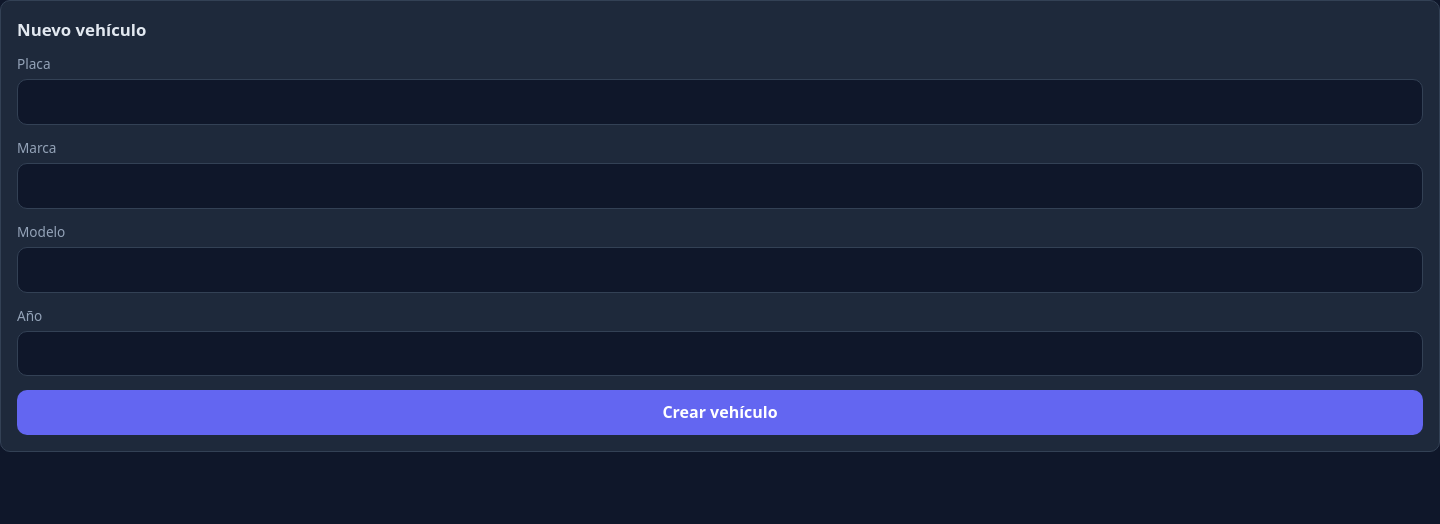
Test: VehicleForm › rechaza un año fuera de rango
The image size is (1440, 524).
In the field labelled "Placa": (720, 102) [17, 79, 1423, 125], type "ABC-123"
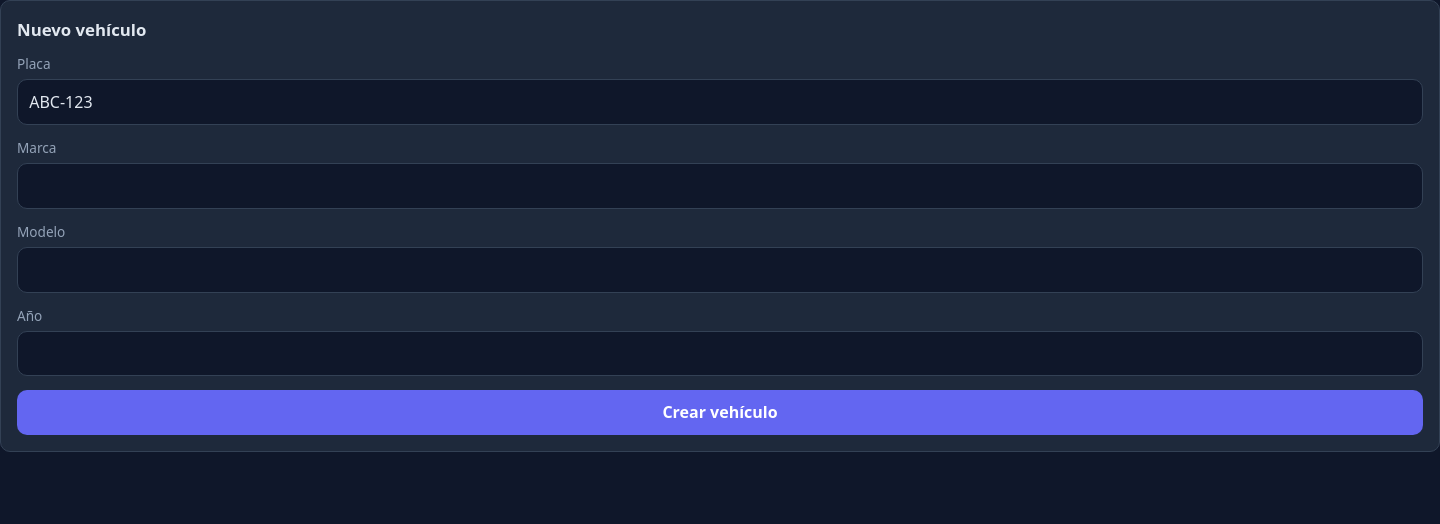
In the field labelled "Marca": (720, 186) [17, 163, 1423, 208], type "Toyota"
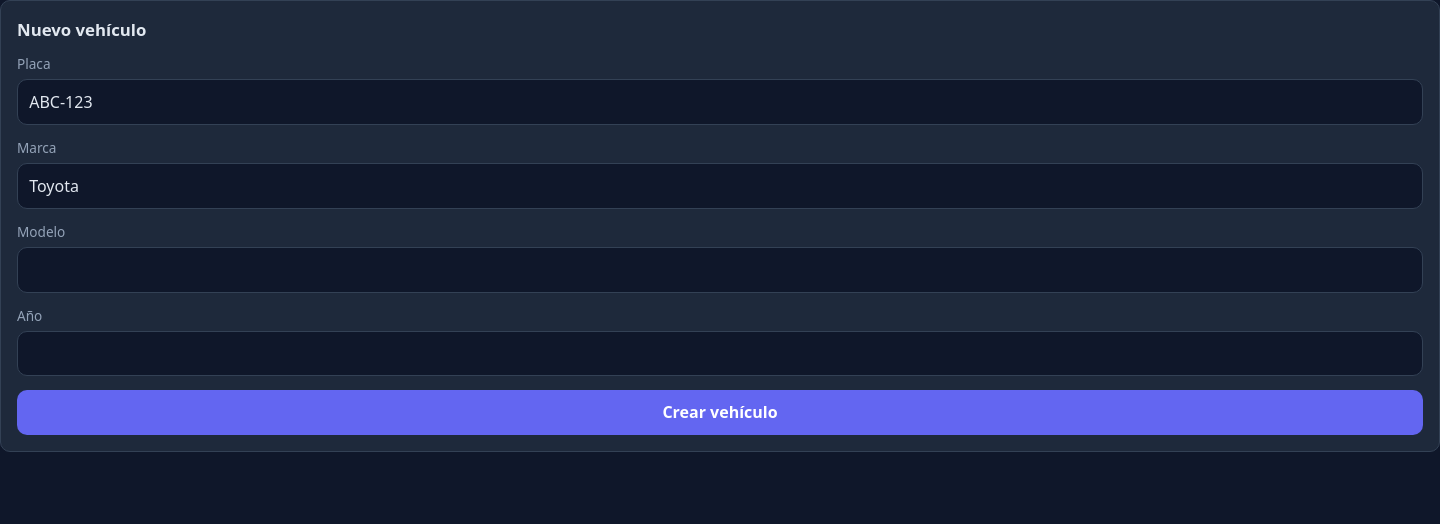
In the field labelled "Modelo": (720, 270) [17, 247, 1423, 292], type "Corolla"
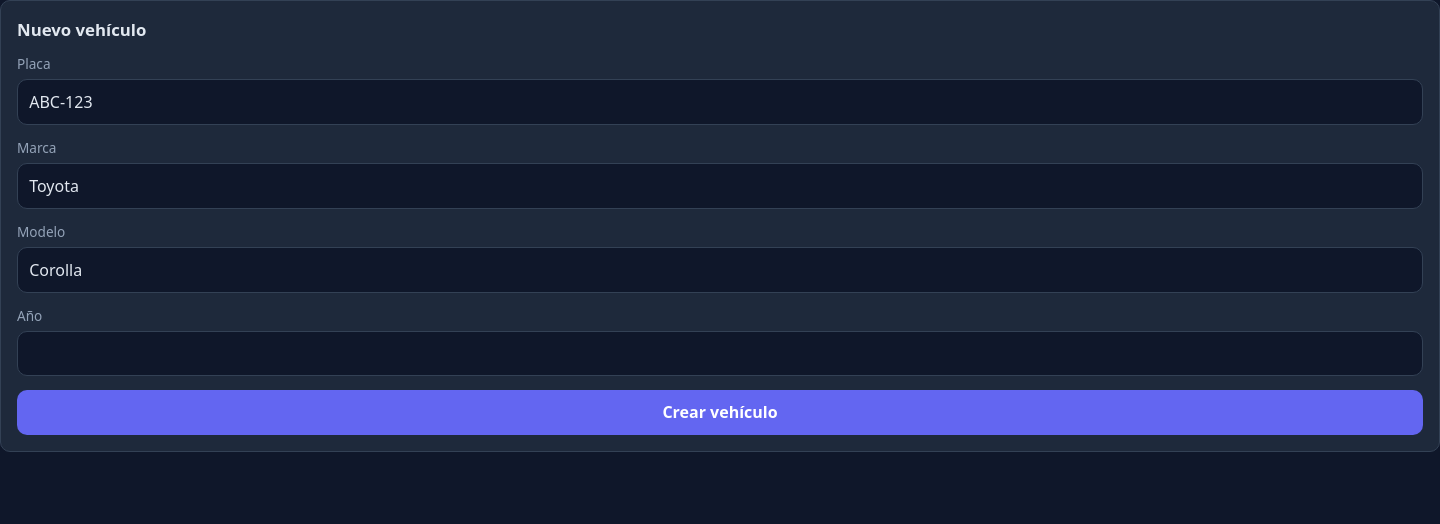
In the number field labelled "Año": (720, 354) [17, 331, 1423, 376], type "1800"
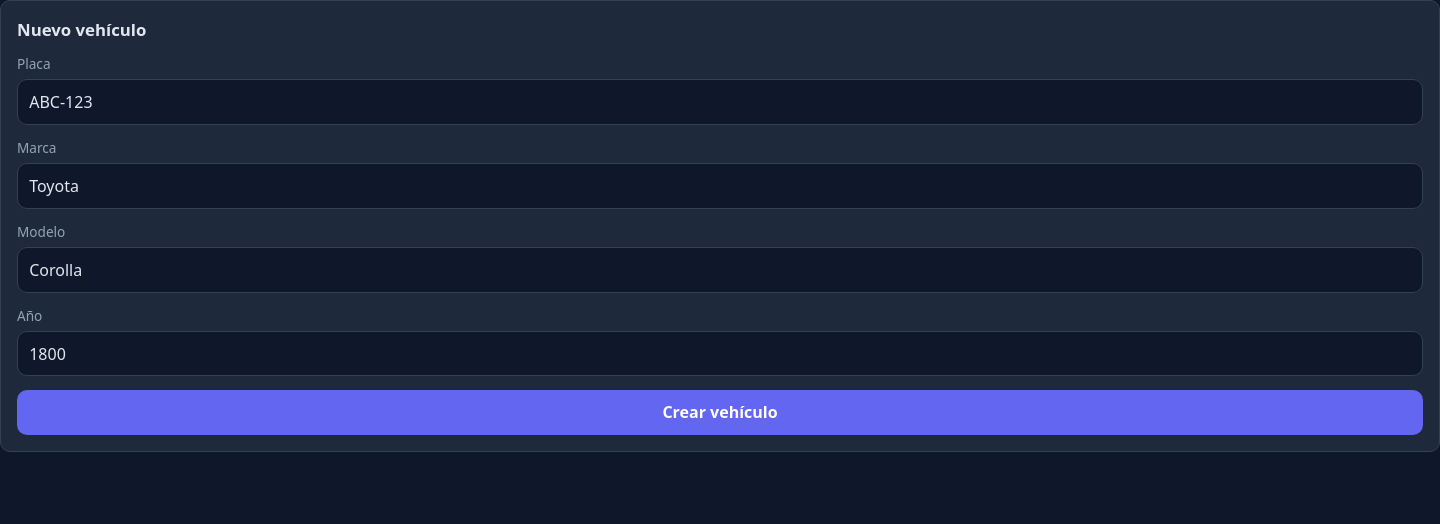
Click the button "Crear vehículo": (720, 412) [17, 390, 1423, 435]
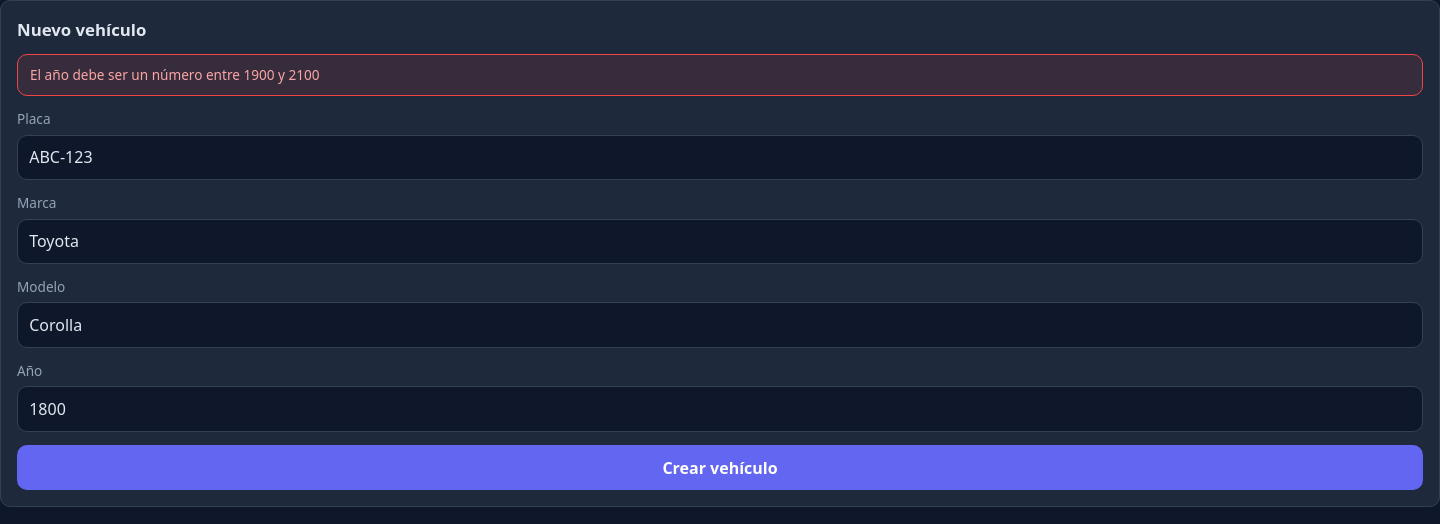
Expected: the message shows "entre 1900 y 2100", [30, 65, 320, 84]
